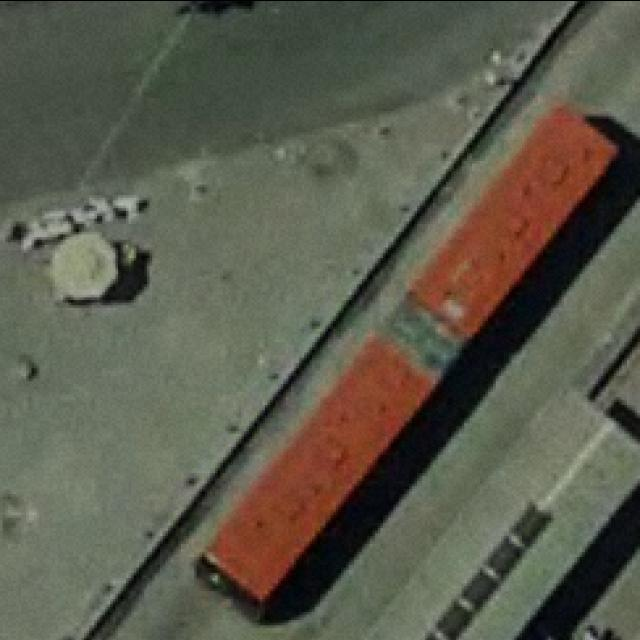vendedor_ambulante: (42, 230, 126, 308)
